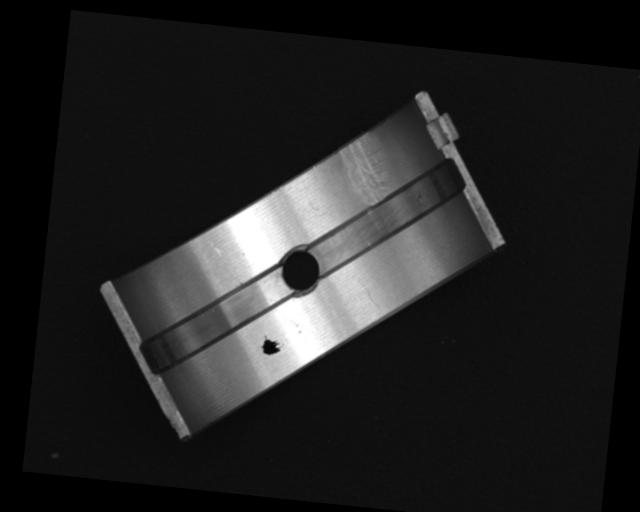blot: (259, 332, 286, 357)
gap: (306, 149, 462, 291), (138, 259, 290, 387)
hole: (278, 247, 321, 294)
nick: (205, 241, 245, 286), (355, 277, 381, 311)
scratch: (334, 132, 394, 207)
